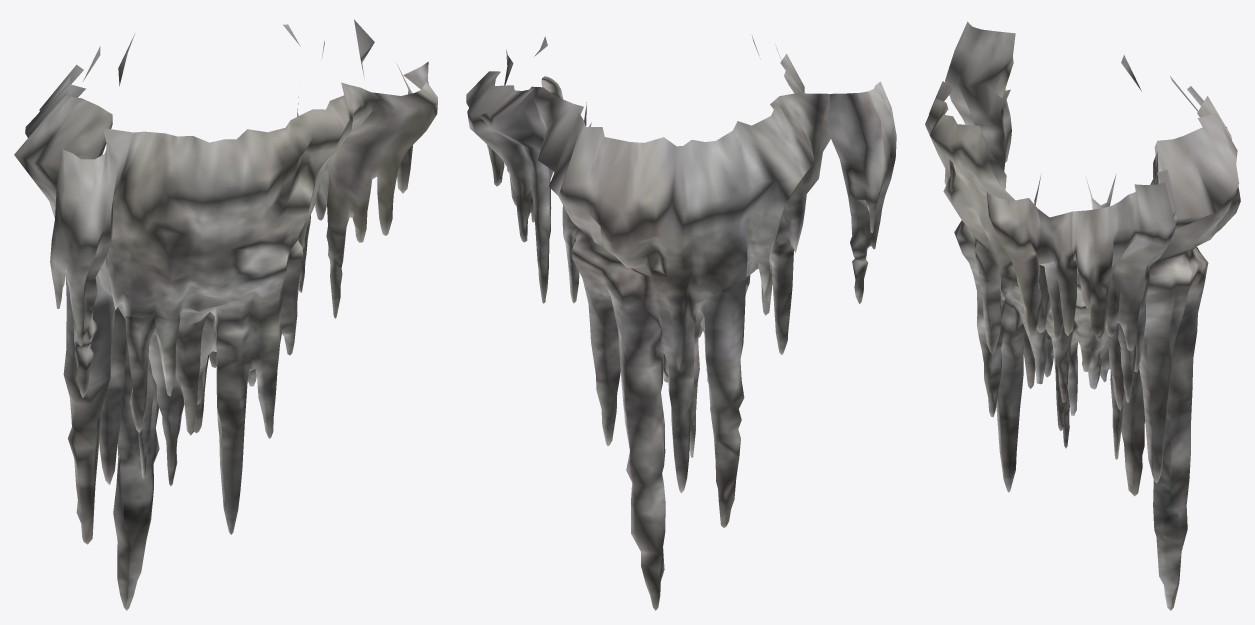
Rendered from AEG023_855out-transformed.glb.
3 views of the same model, side by side, from view 1: azimuth 30°, elevation 25°; view 2: azimuth 150°, elevation 25°; view 3: azimuth 270°, elevation 25° (orthographic). The views are drawn at different scales.
Visible parts, largest first — view 1: default; view 2: default; view 3: default.
Boxes of the visible parts, x1,y1,x2,y2 form: default: (14, 19, 437, 610); default: (466, 34, 896, 610); default: (925, 21, 1240, 610).
Bounding box in the file's own units: 6.63 × 8.92 × 4.77.
1 material, 1 textured.
